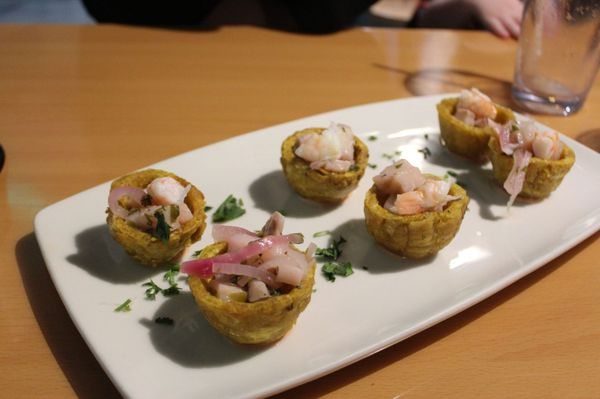pizza: (510, 0, 600, 117)
